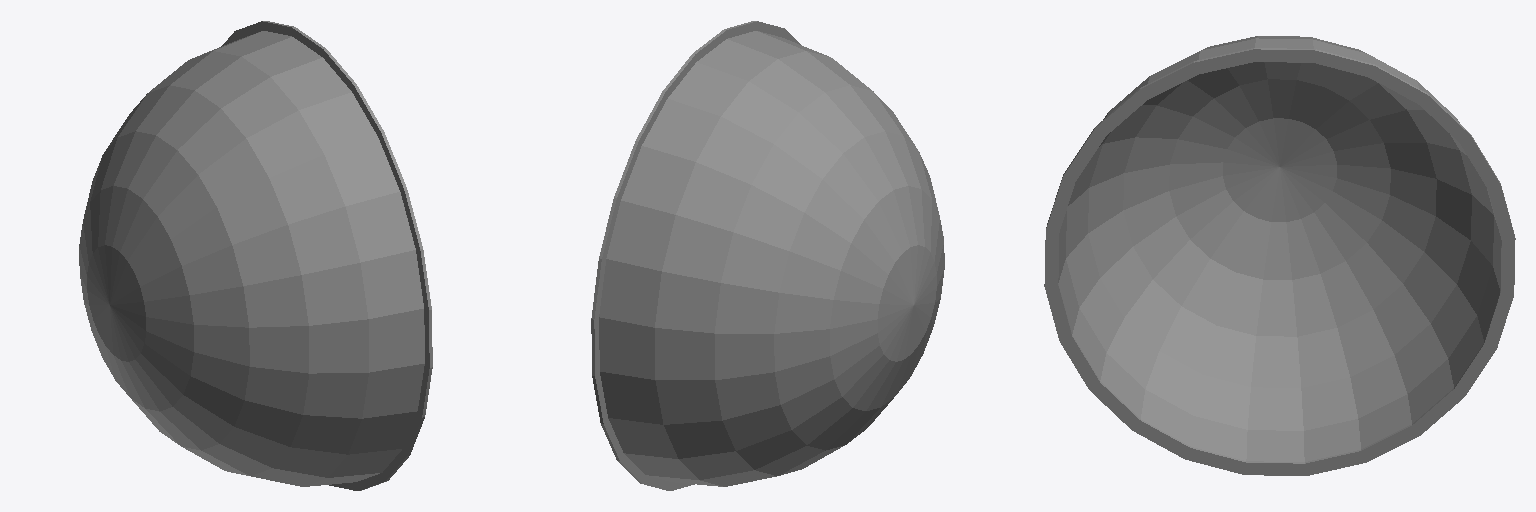
robot.urdf — cube.urdf:
<?xml version="0.0" ?> 
<robot name="cube.urdf"> 
<link name="legobrick"> 
<contact> 
<lateral_friction value="1.0"/>
<rolling_friction value="0.0"/>
<contact_cfm value="0.0"/>
<contact_erp value="1.0"/>
</contact> 
<inertial> 
<origin rpy="0 0 0" xyz="0.0 0.0 0.0"/> 
<mass value="0.1"/> 
<inertia ixx="1" ixy="0" ixz="0" iyy="1" iyz="0" izz="1"/> 
</inertial> 
<visual> 
<origin rpy="1.570796 0 0" xyz="-0.00361226763485478 7.593913971599717e-19 4.1028729514804145e-19"/> 
<geometry> 
<mesh filename="899af991203577f019790c8746d79a6f.obj" scale="1 1 1"/> 
</geometry> 
<material name="yellow"> 
<color rgba="0.6 0.6 0.6 1"/> 
</material> 
</visual> 
<collision> 
<origin rpy="1.570796 0 0" xyz="-0.00361226763485478 7.593913971599717e-19 4.1028729514804145e-19"/> 
<geometry> 
<mesh filename="899af991203577f019790c8746d79a6f_col.obj" scale="1 1 1"/> 
</geometry> 
</collision> 
</link> 
</robot>

--- Facts derived from the render (not from the file) ---
3 views of the same robot in one strip: view 1: azimuth 30°, elevation 25°; view 2: azimuth 150°, elevation 25°; view 3: azimuth 270°, elevation 25° (orthographic).
Robot: cube.urdf — 1 links, 0 joints (none); root link legobrick; default pose: all joints at 0.
Visible links, largest first — view 1: legobrick; view 2: legobrick; view 3: legobrick.
Link boxes in pixels (x1,y1,x2,y2): legobrick: [79, 21, 432, 490]; legobrick: [591, 21, 944, 490]; legobrick: [1044, 36, 1515, 475].
Bounding box of the posed robot: 0.0221 × 0.045 × 0.045 m (x, y, z).
Meshes: 1 distinct files referenced, 1 mesh visuals loaded (1 OBJ).